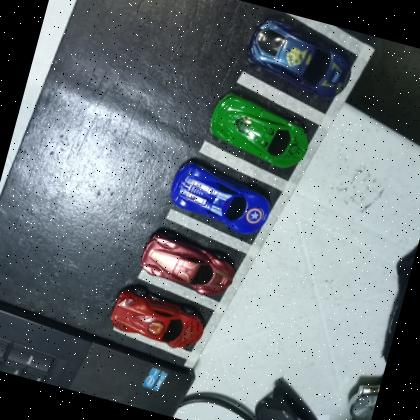Car: (238, 11, 362, 104), (202, 87, 318, 176), (164, 156, 279, 241), (105, 278, 213, 356), (134, 226, 241, 302)
